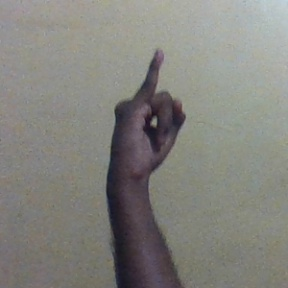I: (104, 46, 194, 190)
